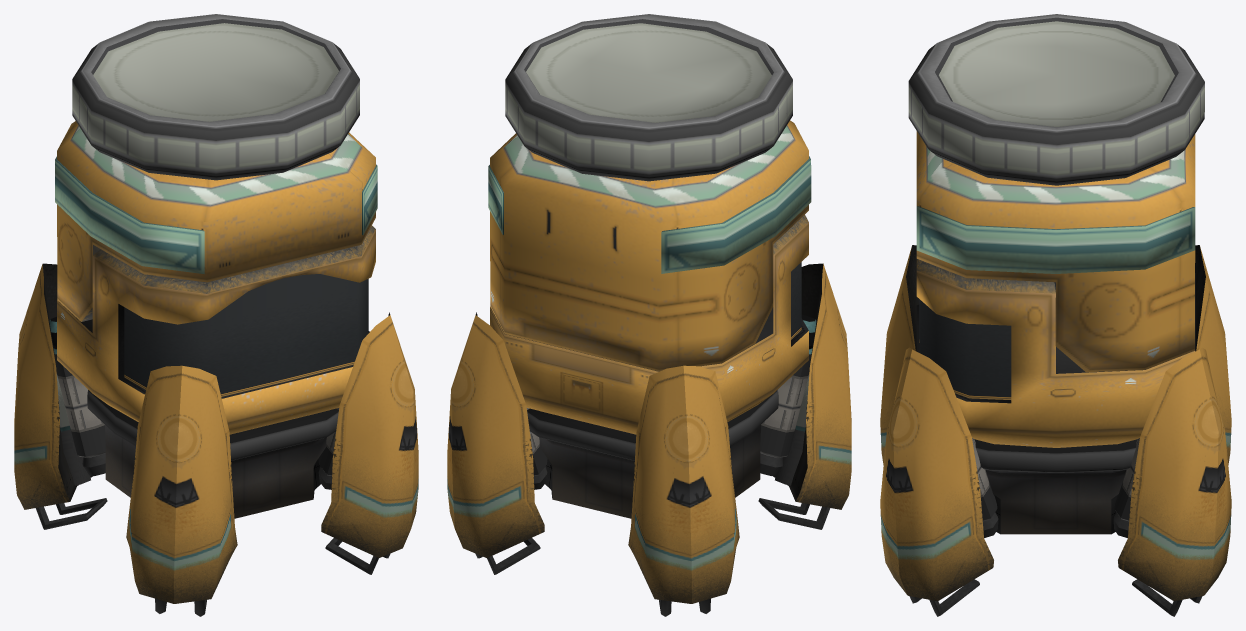
Rendered from HermetBottle.fbx.
3 renders of one model, left to right at view 1: azimuth 30°, elevation 25°; view 2: azimuth 150°, elevation 25°; view 3: azimuth 270°, elevation 25°, orthographic. The views are drawn at different scales.
Parts seen in each view (by area): view 1: PlayerBottle; view 2: PlayerBottle; view 3: PlayerBottle.
Part boxes in pixels (x1,y1,x2,y2): PlayerBottle: [14, 14, 418, 616]; PlayerBottle: [447, 14, 851, 616]; PlayerBottle: [880, 14, 1231, 616].
Bounding box in the file's own units: 35.01 × 55.34 × 36.09.
